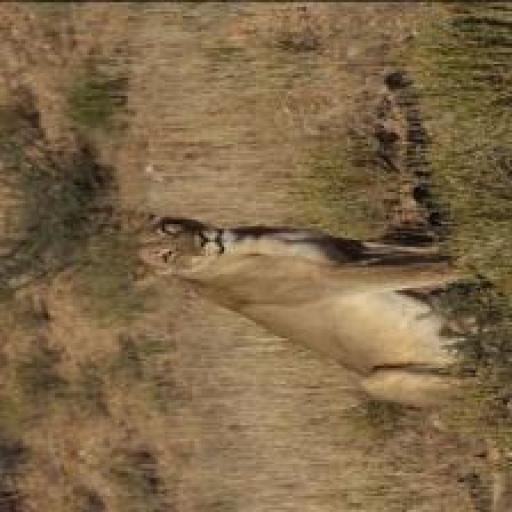lion: (107, 185, 511, 413)
